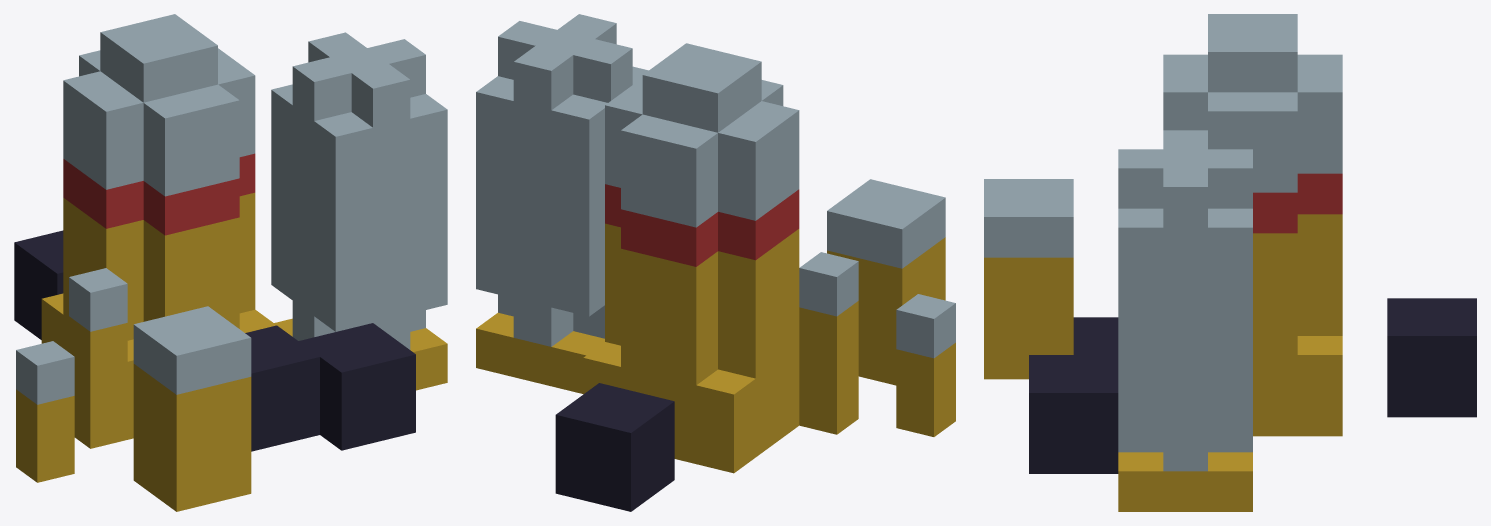
File: BuffAmmo.glb
3 renders of one model, left to right at view 1: azimuth 30°, elevation 25°; view 2: azimuth 150°, elevation 25°; view 3: azimuth 270°, elevation 25°, orthographic. The views are drawn at different scales.
Parts seen in each view (by area): view 1: Ammo; view 2: Ammo; view 3: Ammo.
Part boxes in pixels (x1,y1,x2,y2): Ammo: [14, 14, 447, 511]; Ammo: [476, 14, 955, 511]; Ammo: [984, 14, 1476, 511].
Size of the model in its own units: 1.04 by 0.855 by 1.05.
Materials: 1 (1 with a texture image).
